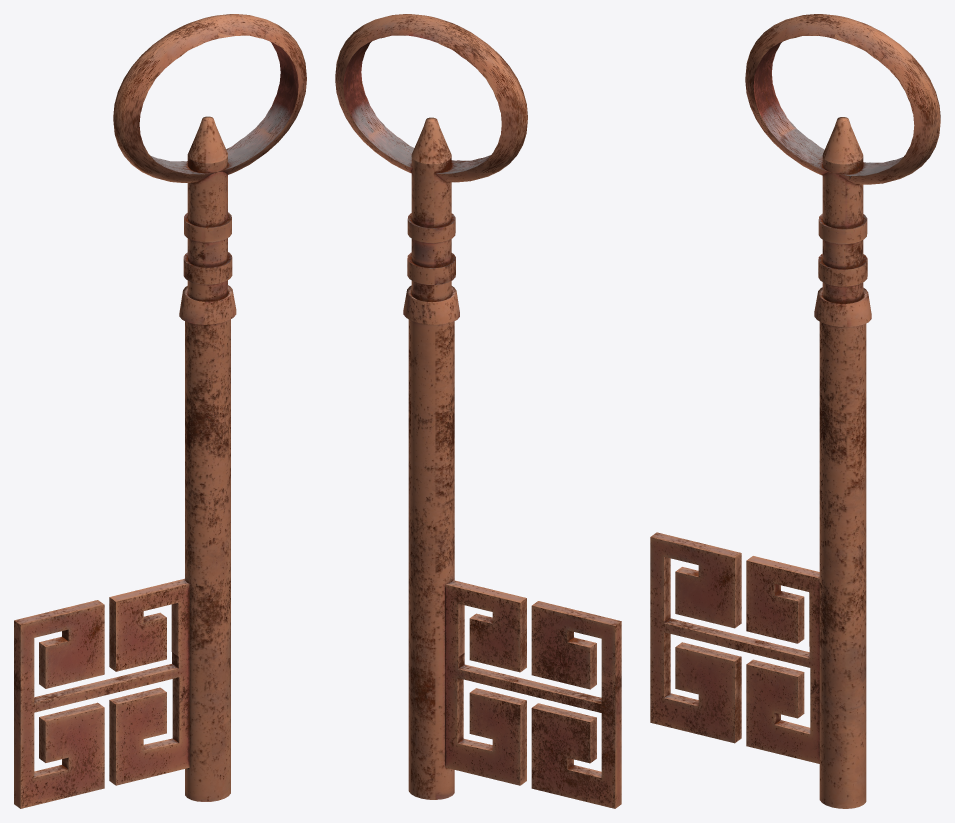
File: key_06_copper_victorian.glb
3 views of the same model, side by side, from view 1: azimuth 30°, elevation 25°; view 2: azimuth 150°, elevation 25°; view 3: azimuth 330°, elevation 25° (orthographic).
Parts seen in each view (by area): view 1: Key; view 2: Key; view 3: Key.
Boxes of the visible parts, left/top/right/bottom form: Key: left=14, top=14, right=306, bottom=808; Key: left=335, top=14, right=621, bottom=808; Key: left=650, top=14, right=940, bottom=808.
Size of the model in its own units: 0.0581 by 0.15 by 0.00922.
1 material, 1 textured.
